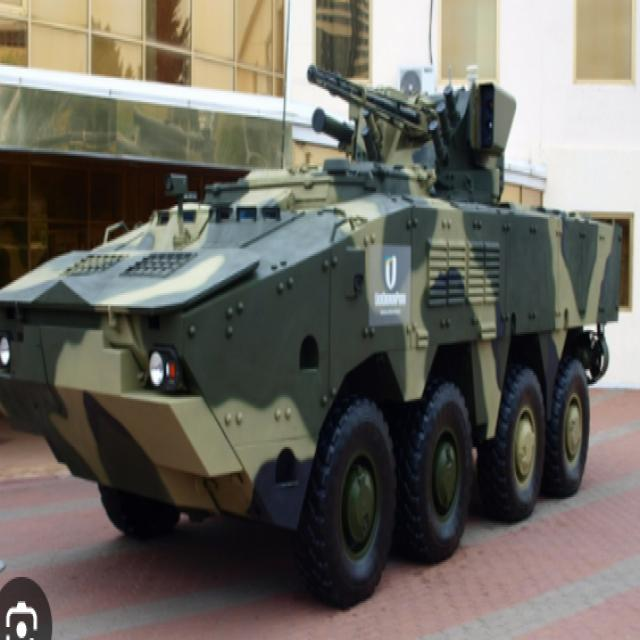MIL_APC: (14, 84, 636, 595)
